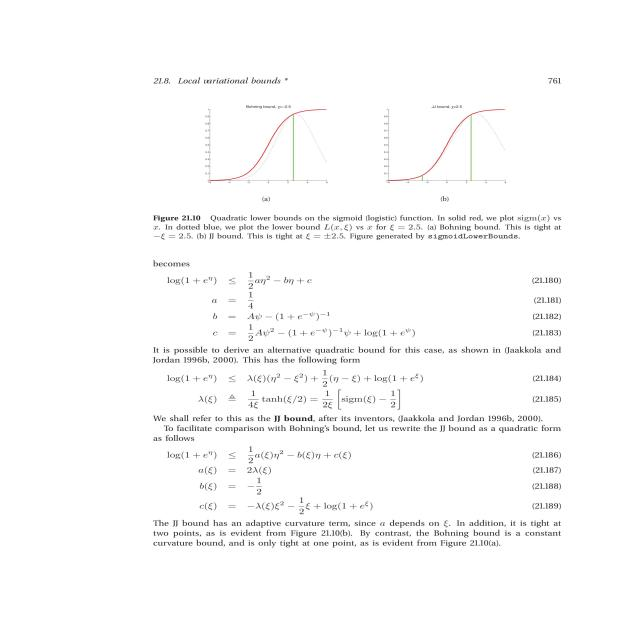diagram: (109, 95, 630, 252)
